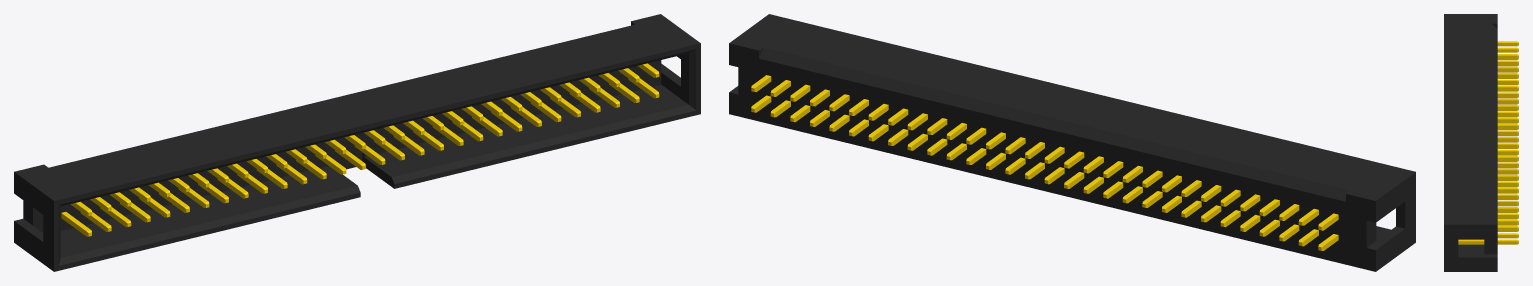
Rendered from DS1013-60S (IDC-60MS CONNFLY).obj.
3 renders of one model, left to right at view 1: azimuth 30°, elevation 25°; view 2: azimuth 150°, elevation 25°; view 3: azimuth 270°, elevation 25°, orthographic. The views are drawn at different scales.
Visible parts, largest first — view 1: DS1013-60S_(IDC-60MS_CONNFLY); view 2: DS1013-60S_(IDC-60MS_CONNFLY); view 3: DS1013-60S_(IDC-60MS_CONNFLY).
Part boxes in pixels (x1=…): DS1013-60S_(IDC-60MS_CONNFLY): x1=14, y1=14, x2=700, y2=271; DS1013-60S_(IDC-60MS_CONNFLY): x1=729, y1=14, x2=1415, y2=271; DS1013-60S_(IDC-60MS_CONNFLY): x1=1444, y1=14, x2=1518, y2=271.
Size of the model in its own units: 0.0103 by 0.00109 by 0.00155.
